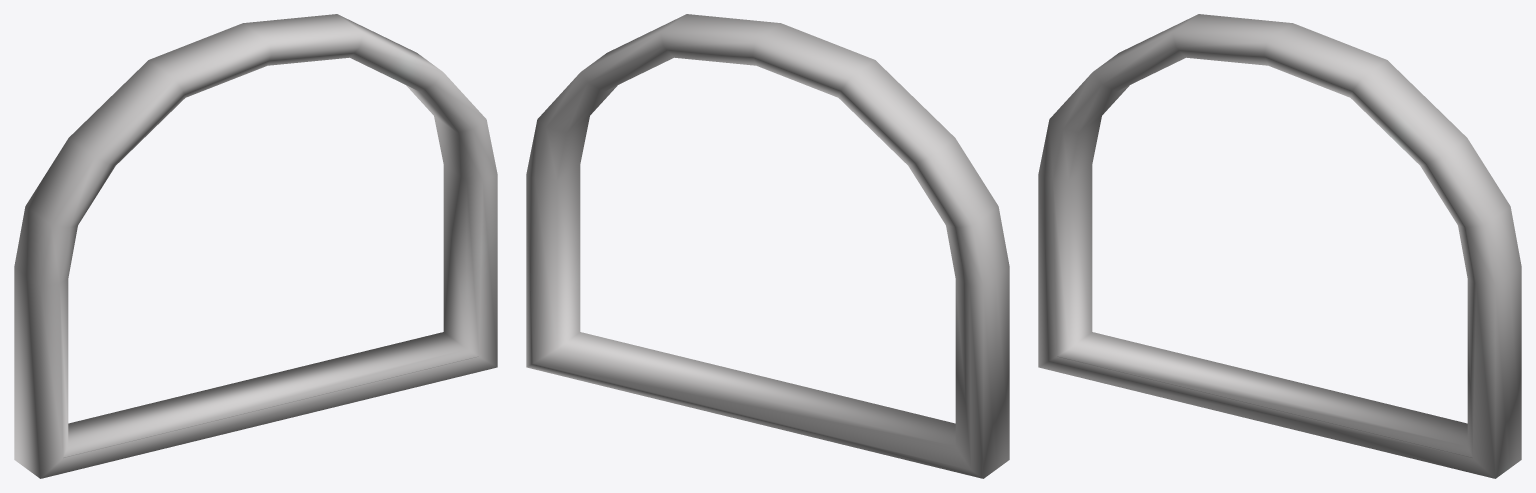
Rendered from blwindow.obj.
The picture shows the model from 3 angles, left to right: view 1: azimuth 30°, elevation 25°; view 2: azimuth 150°, elevation 25°; view 3: azimuth 330°, elevation 25°; orthographic projection.
Parts seen in each view (by area): view 1: polySurface193; view 2: polySurface193; view 3: polySurface193.
Boxes of the visible parts, box(x1,y1,x2,y2) form: polySurface193: box(14, 14, 497, 478); polySurface193: box(526, 14, 1009, 478); polySurface193: box(1038, 14, 1521, 478).
Bounding box in the file's own units: 171 × 136 × 20.1.
1 material, 1 textured.
